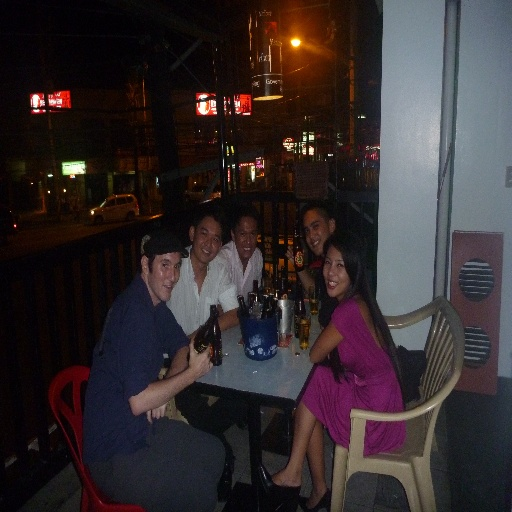hand: (171, 344, 214, 398), (146, 398, 171, 425), (286, 243, 303, 265), (186, 326, 198, 343)
